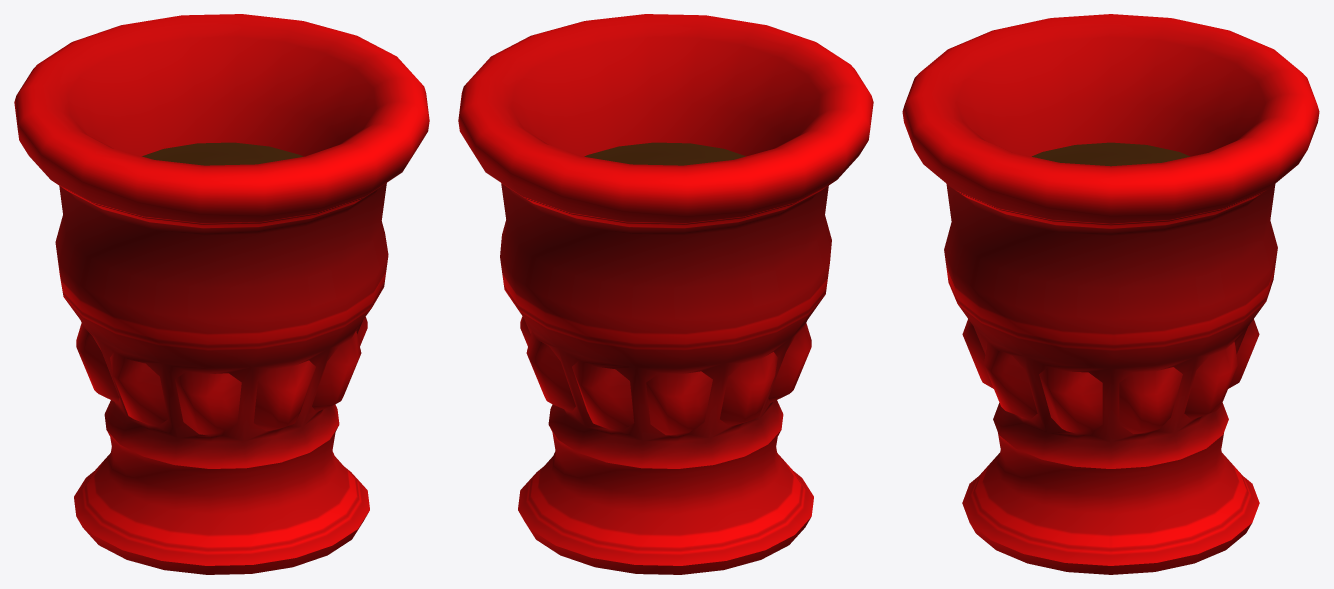
The model's file is Vase04.fbx.
3 renders of one model, left to right at view 1: azimuth 30°, elevation 25°; view 2: azimuth 150°, elevation 25°; view 3: azimuth 270°, elevation 25°, orthographic.
Parts seen in each view (by area): view 1: Lathe; view 2: Lathe; view 3: Lathe.
Boxes of the visible parts, left/top/right/bottom form: Lathe: left=14, top=14, right=429, bottom=574; Lathe: left=458, top=14, right=873, bottom=574; Lathe: left=902, top=14, right=1319, bottom=574.
Size of the model in its own units: 63.36 by 70.59 by 63.36.
